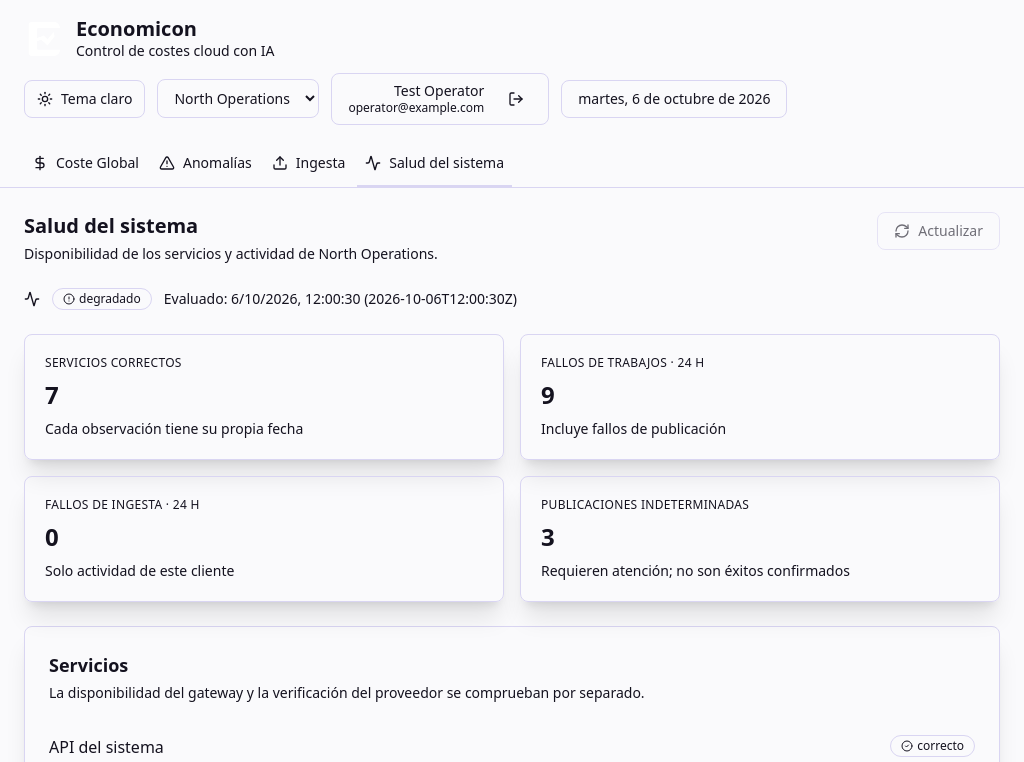
Test case: JUP-047 system health public flow › logout ignores an old generation and stops timers
Expected: the heading "Salud del sistema" is shown, [24, 212, 198, 238]
Click the button named "Cerrar sesión" at (516, 99), box [500, 83, 532, 115]
Wait 60000 ms
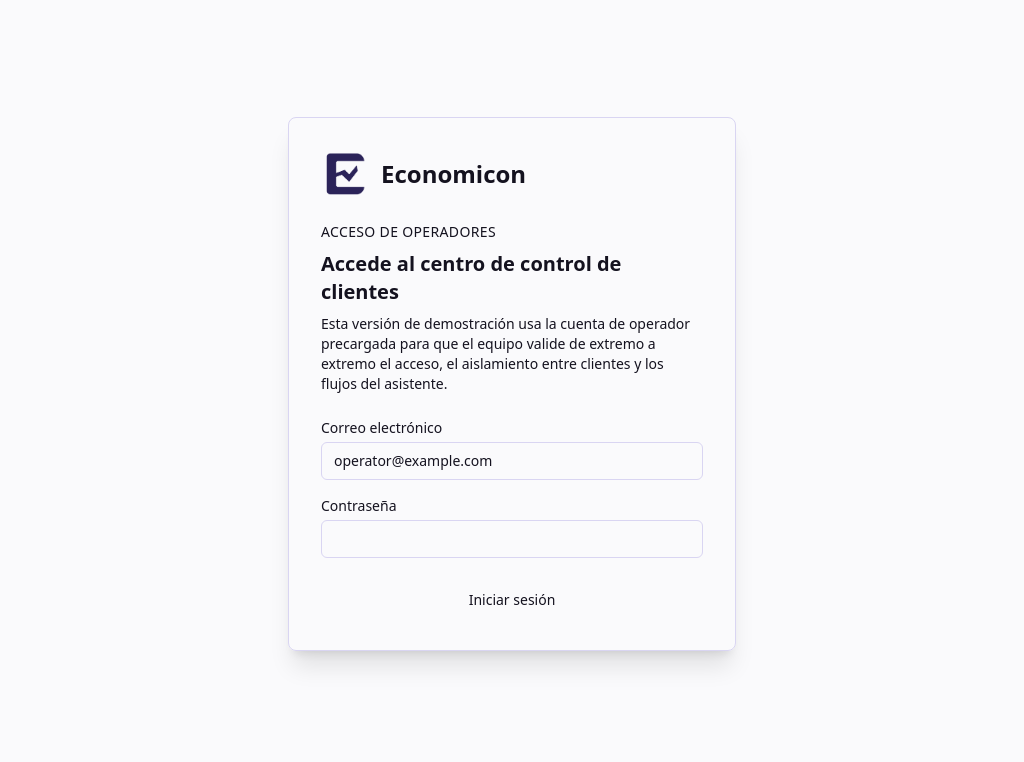
Expected: the link "Salud del sistema" is gone
